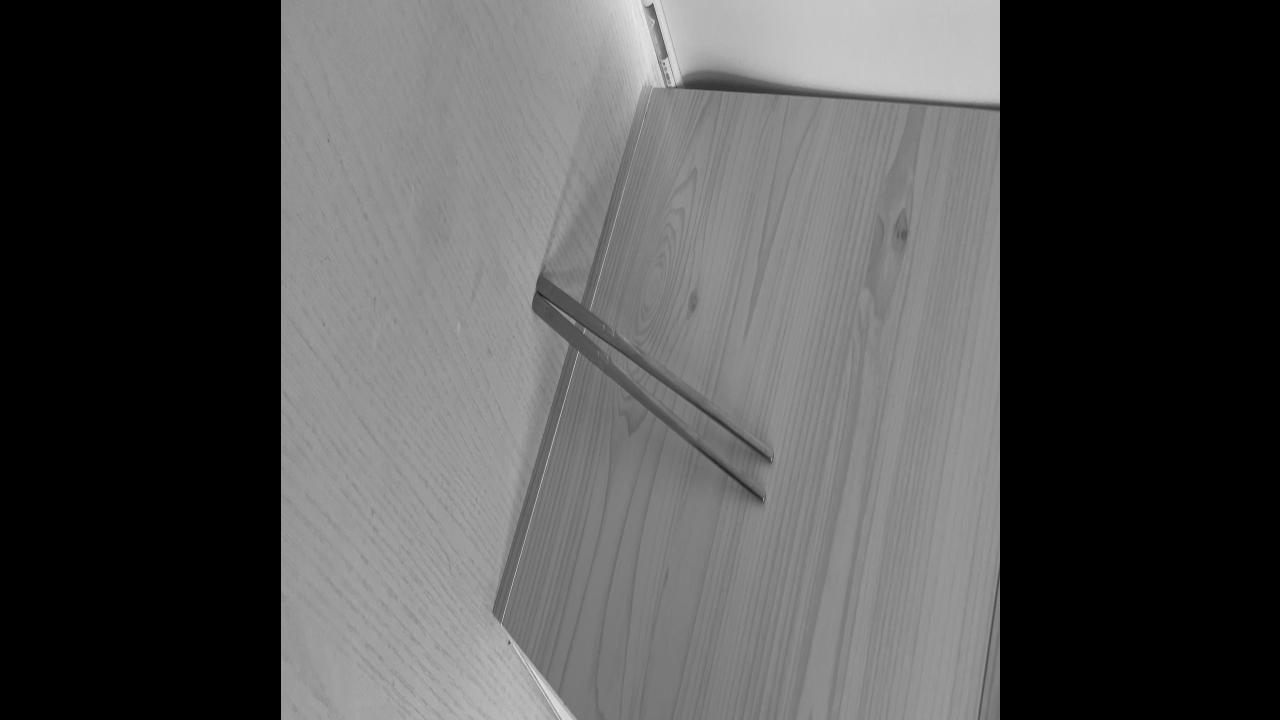chopstick: (530, 272, 772, 516)
